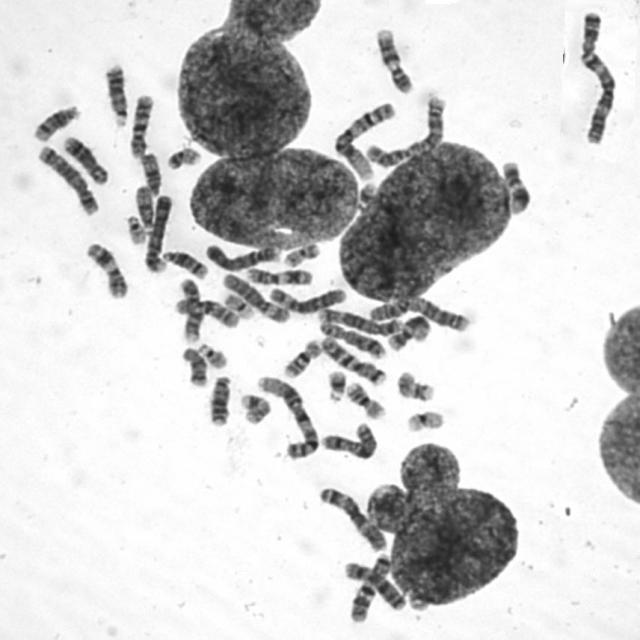A1: (251, 370, 320, 461), (329, 97, 398, 182)
A2: (359, 90, 448, 169), (363, 290, 472, 332)
A3: (313, 480, 389, 552), (575, 50, 617, 146)
B4: (139, 188, 174, 274), (200, 238, 282, 272)
B5: (32, 138, 100, 216), (313, 304, 404, 336)
C10: (169, 292, 241, 330), (123, 89, 155, 159)
C11: (80, 237, 129, 300), (241, 262, 314, 287)
C12: (383, 310, 431, 352), (498, 156, 532, 215)
C6: (218, 268, 291, 324), (263, 281, 348, 315)
C7: (316, 332, 388, 386), (343, 549, 393, 624)
C8: (314, 316, 387, 360), (58, 130, 110, 186)
C9: (371, 22, 415, 94), (174, 274, 204, 344)
D13: (100, 59, 130, 128), (204, 370, 233, 427)
D14: (28, 99, 82, 142), (156, 246, 209, 280)
D15: (136, 149, 162, 197), (131, 180, 155, 230)
E16: (341, 376, 387, 421), (278, 334, 323, 379)
E17: (392, 366, 436, 403), (236, 389, 272, 426)
E18: (176, 342, 208, 388), (580, 12, 603, 56)
F19: (402, 406, 446, 434), (219, 288, 257, 320)
F20: (278, 238, 322, 268), (162, 142, 201, 171)
G21: (322, 365, 348, 402), (353, 178, 378, 206)
G22: (192, 338, 229, 370), (120, 210, 148, 246)
X: (338, 555, 406, 612), (316, 417, 379, 461)
